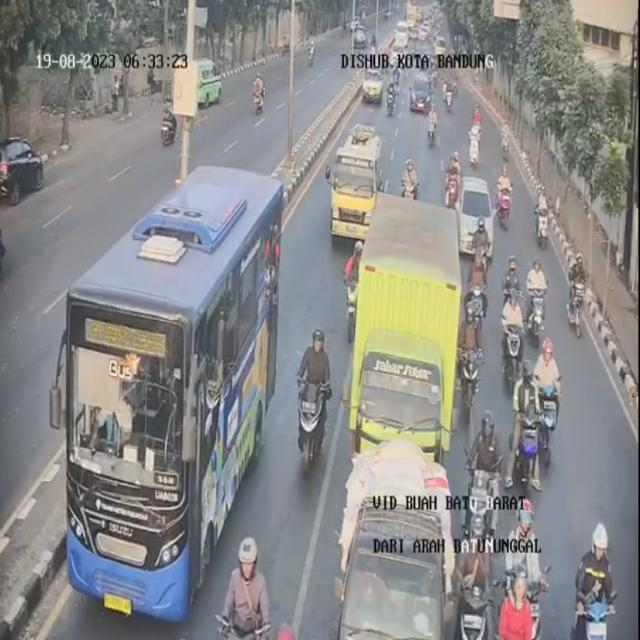bus: (67, 161, 286, 632)
cars: (342, 443, 463, 640), (329, 124, 381, 242), (454, 176, 494, 260), (411, 70, 432, 116)
motorcycle: (518, 337, 567, 490), (451, 481, 491, 638), (220, 530, 275, 639), (292, 323, 334, 464), (467, 409, 500, 538), (454, 306, 484, 408), (503, 295, 532, 397), (467, 257, 490, 336), (526, 253, 548, 332), (470, 216, 494, 286), (505, 256, 526, 325), (494, 160, 514, 228), (464, 101, 484, 167), (536, 186, 556, 250), (445, 149, 463, 199), (424, 100, 441, 148), (402, 153, 419, 199), (444, 78, 458, 116), (384, 80, 396, 114)
truck: (354, 198, 464, 470)
